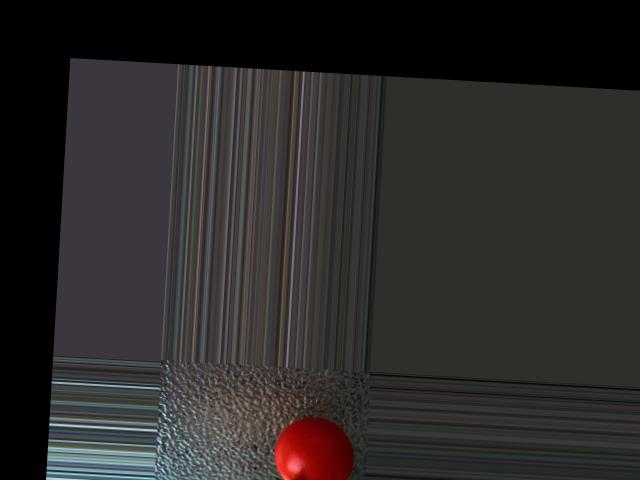tomato: (270, 414, 355, 480)
